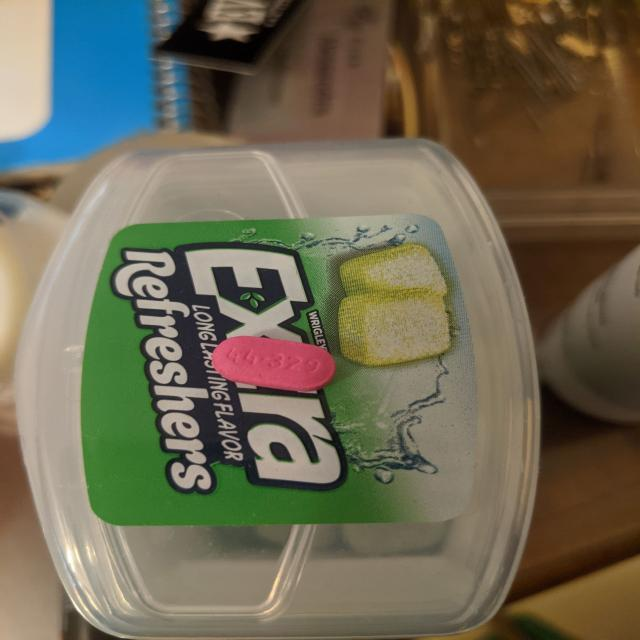non-organic waste: (210, 334, 338, 392)
